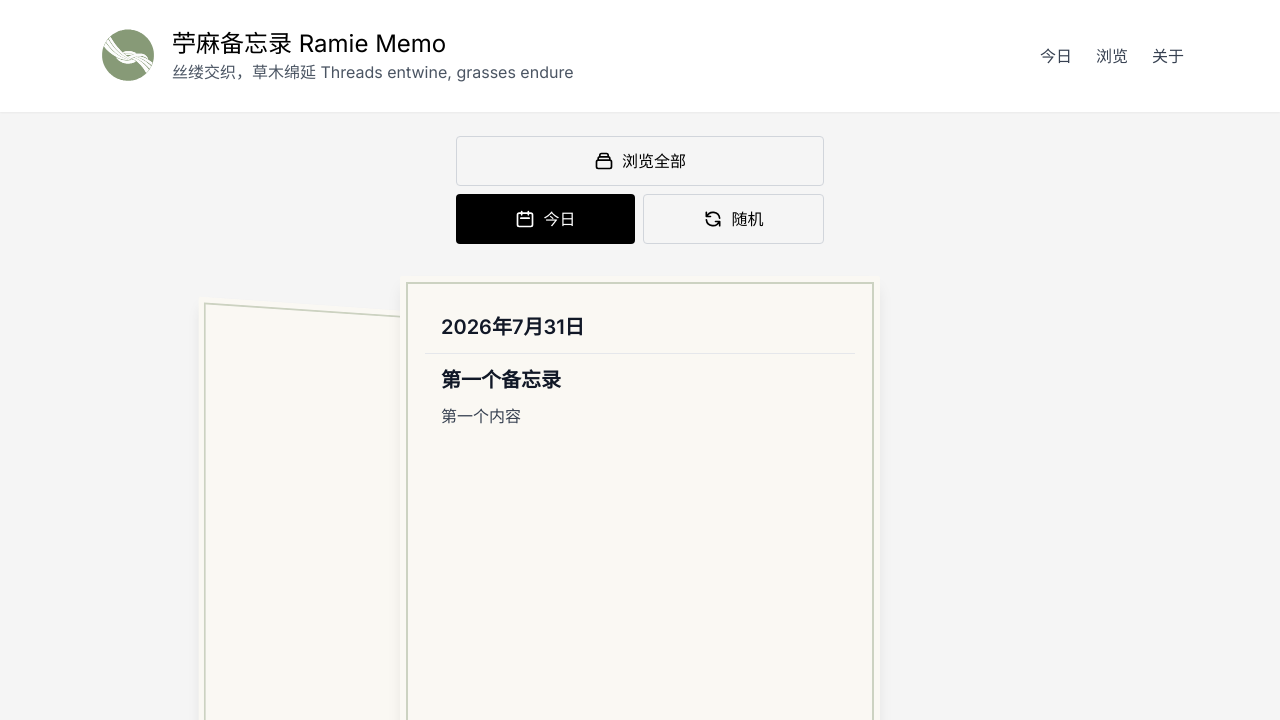
Test: Share Button Functionality › should display share button in random mode
The image size is (1280, 720).
Note: Click Random button
Click the button "随机".
click(734, 219)  # box [643,194,824,244]
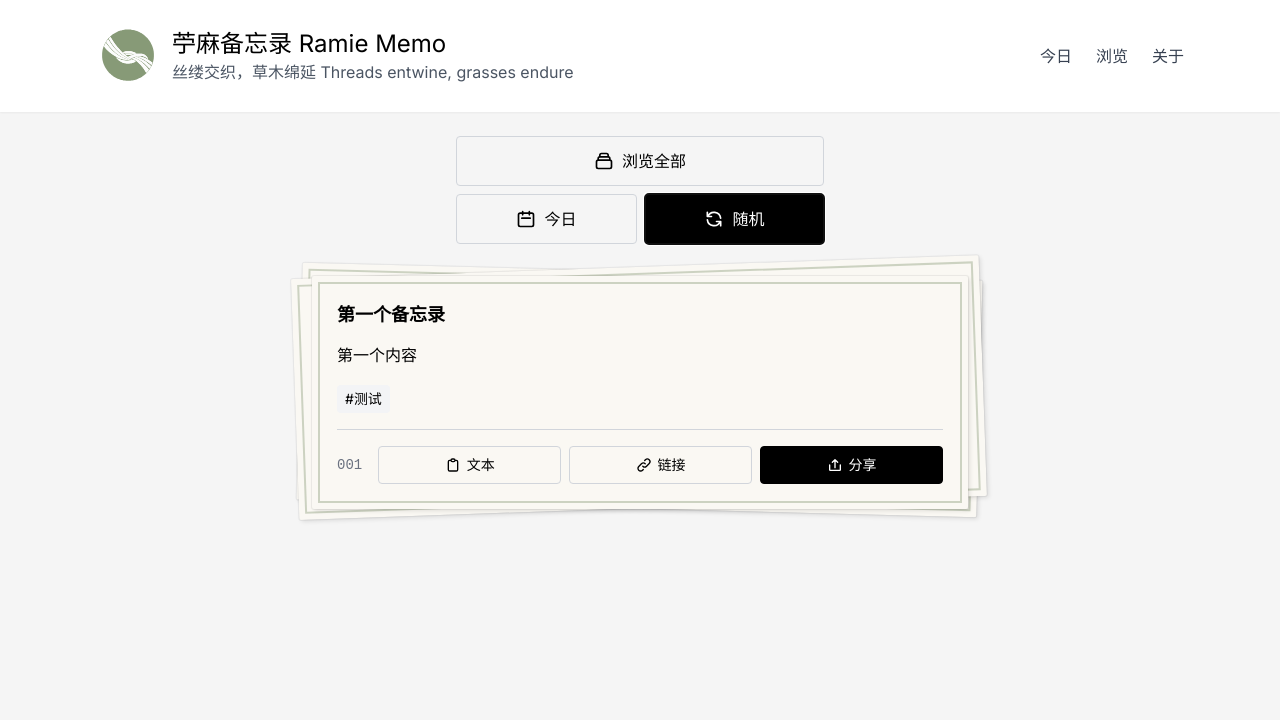
expect the heading "第一个备忘录" is shown: met, box [337,304,445,325]
expect the text "分享" is shown: met, box [848,455,876,475]
